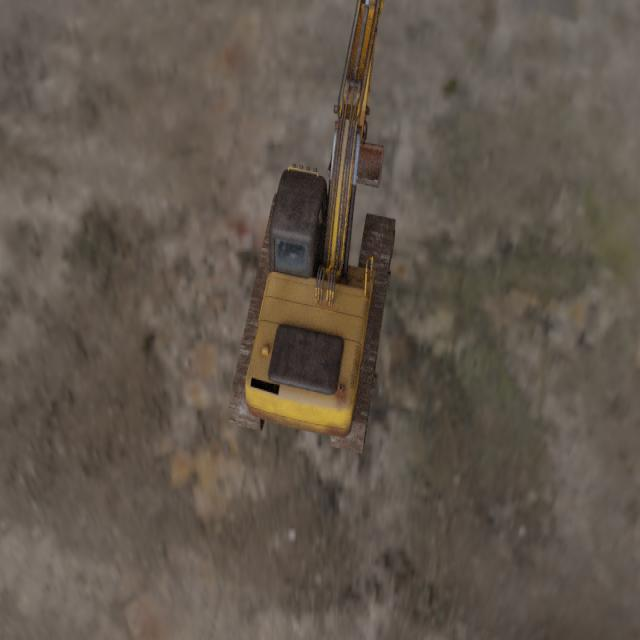excavator: (228, 0, 396, 455)
